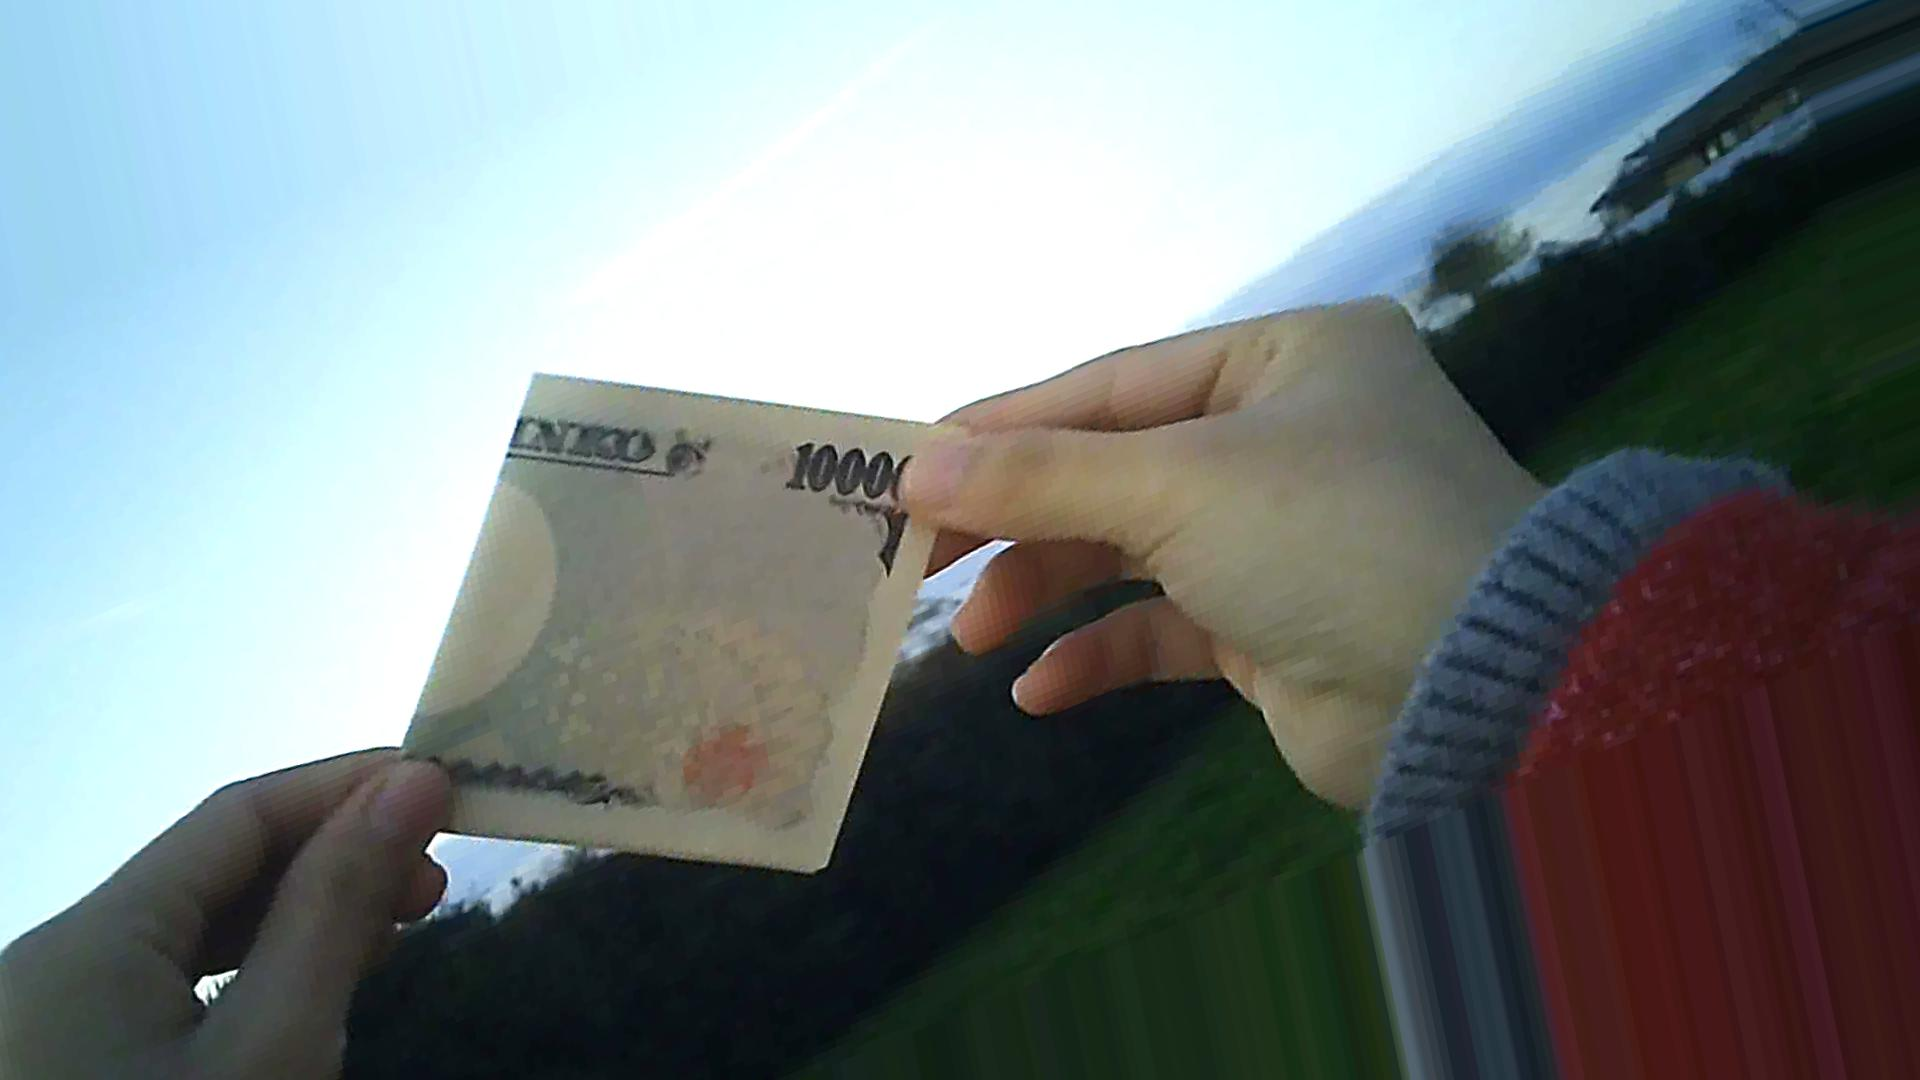10,000 Yen: (390, 338, 971, 913)
